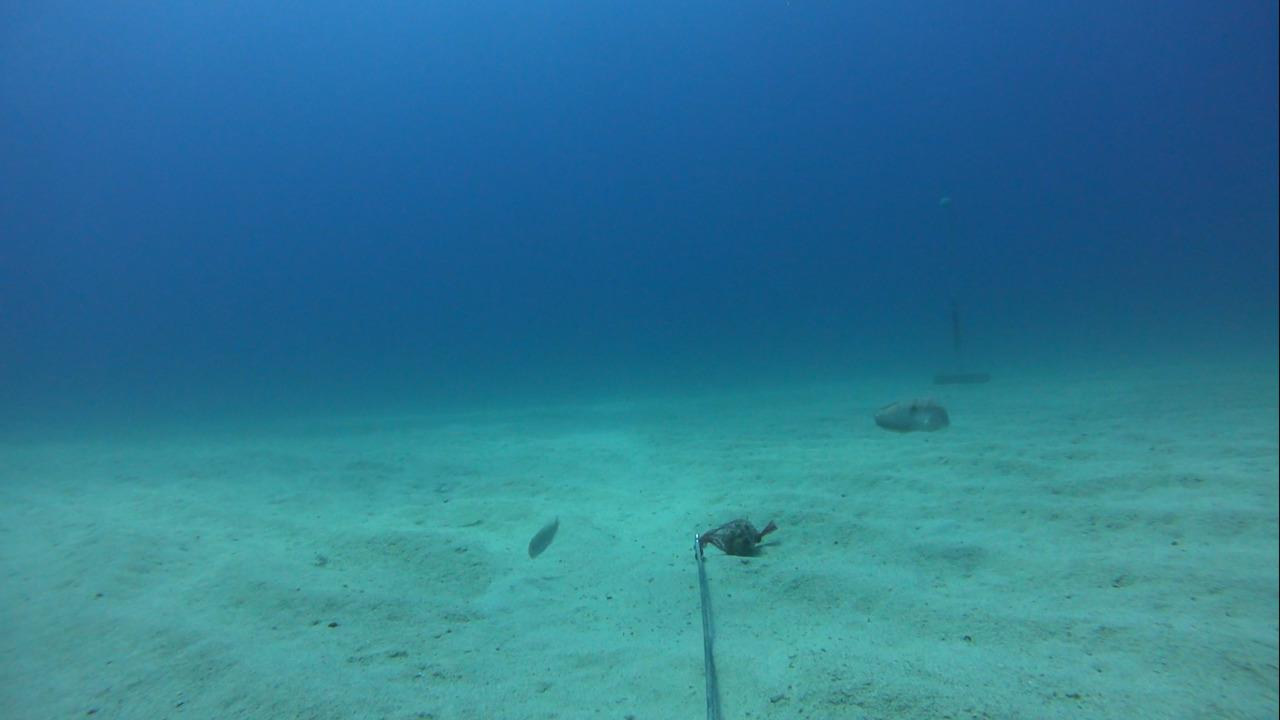raor: (862, 389, 955, 436), (520, 510, 567, 563)
